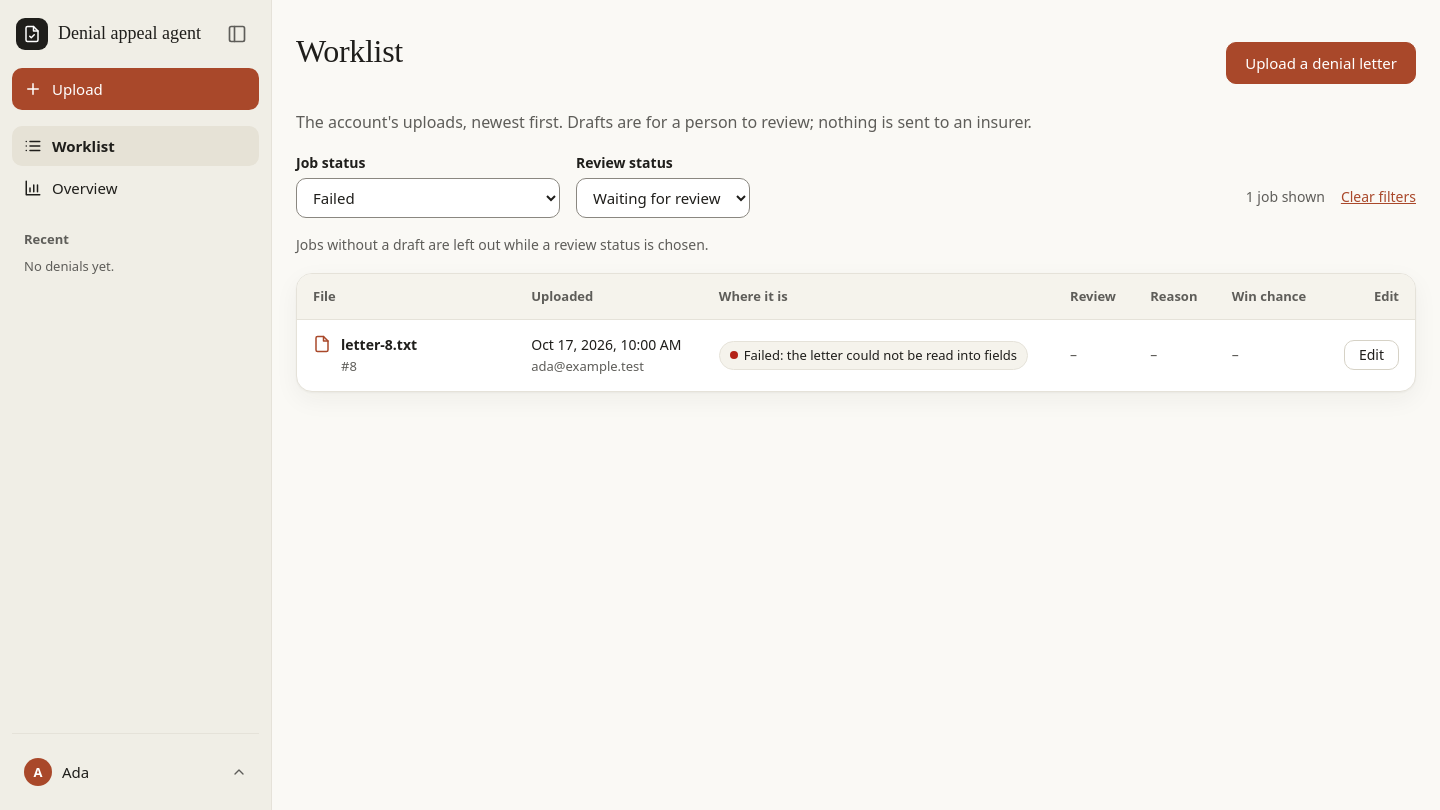
Test: WorklistScreen › clears both filters from the toolbar and keeps nothing else
Check: the text "letter-8.txt" is shown, box [341,335,417,354]
Click the button "Clear filters".
click(1378, 197)  # box [1341,186,1416,208]
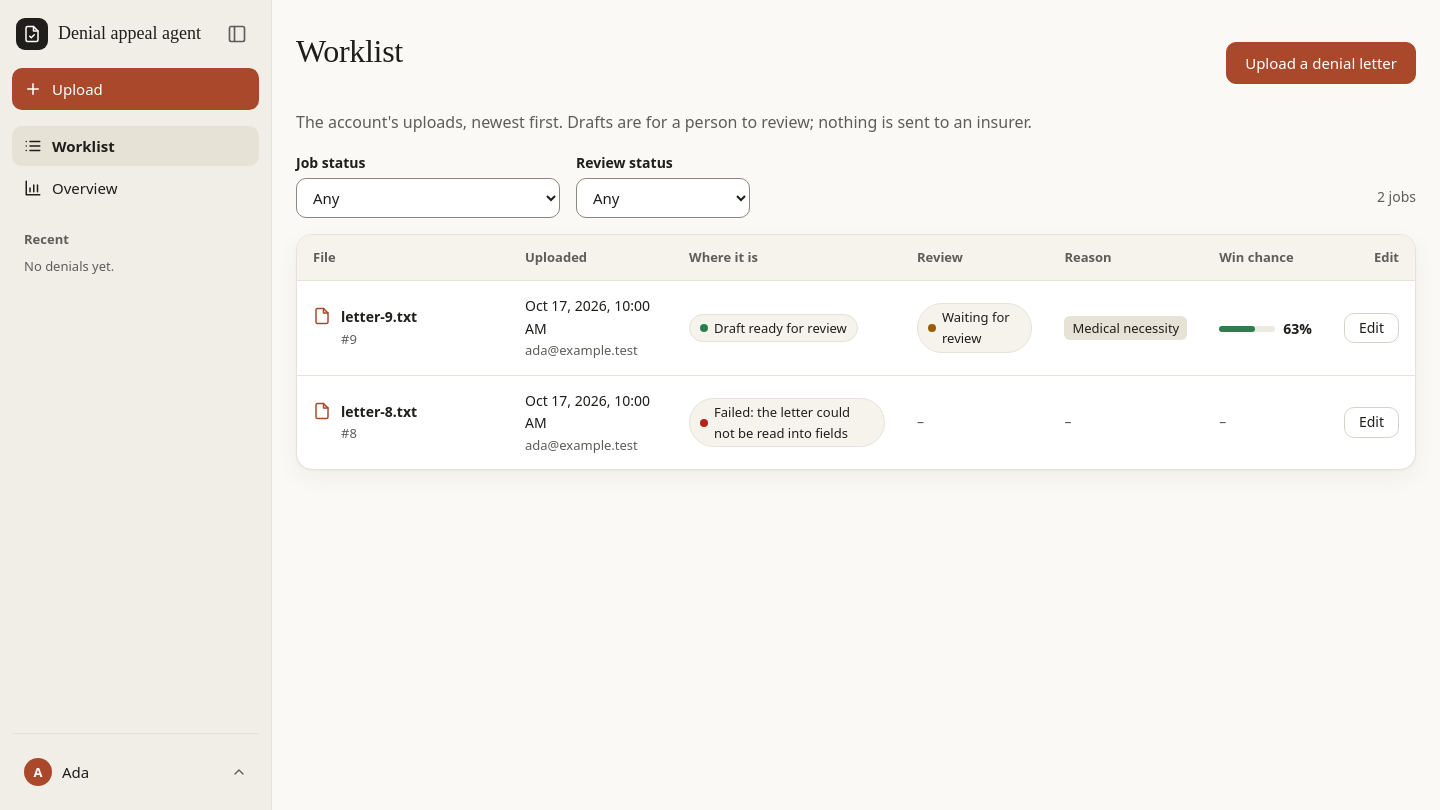
Check: the text "letter-9.txt" is shown, box [341,307,417,326]
Check: the button "Clear filters" is gone
